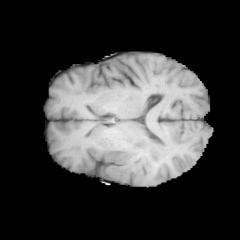glioma: (101, 137, 171, 182)
